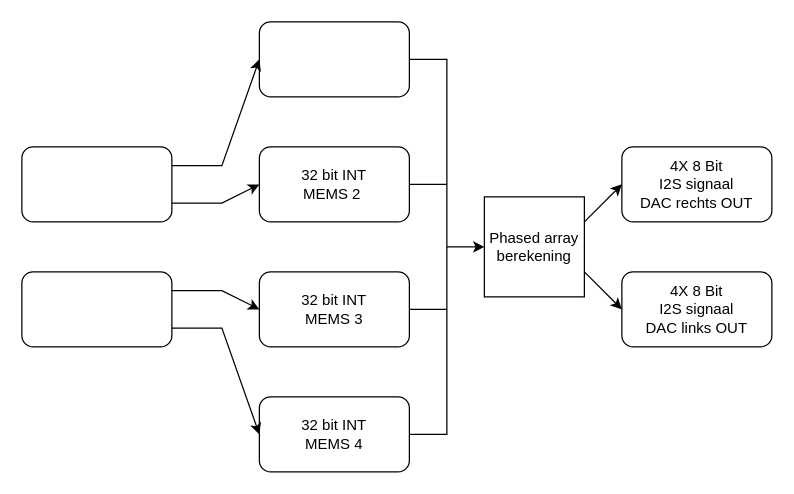
This 794x494 diagram has some shape labels left out. Here are the shapes that lost their labels. From the top down, the centre of each, then its label:
point 333,59: 32 bit INT MEMS 1
point 96,184: 4X 16 bit I2S signaal MEMS 1/2
point 96,309: 4X 16 bit I2S signaal MEMS 3/4
